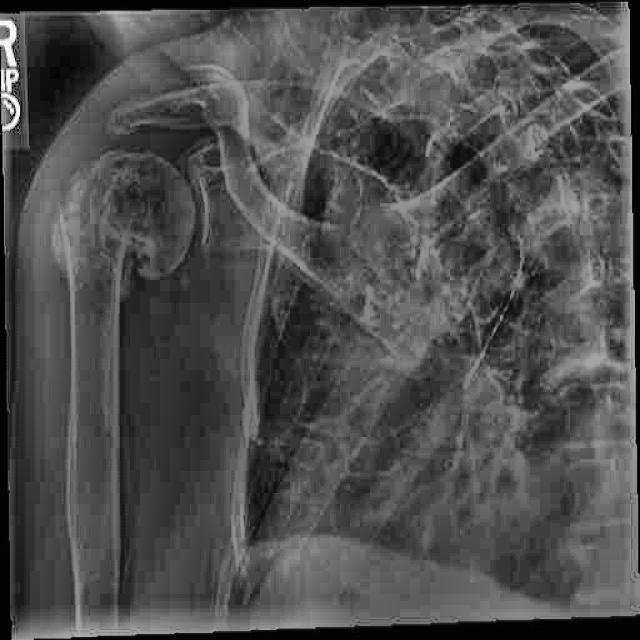shoulder fracture: (44, 172, 171, 305)
